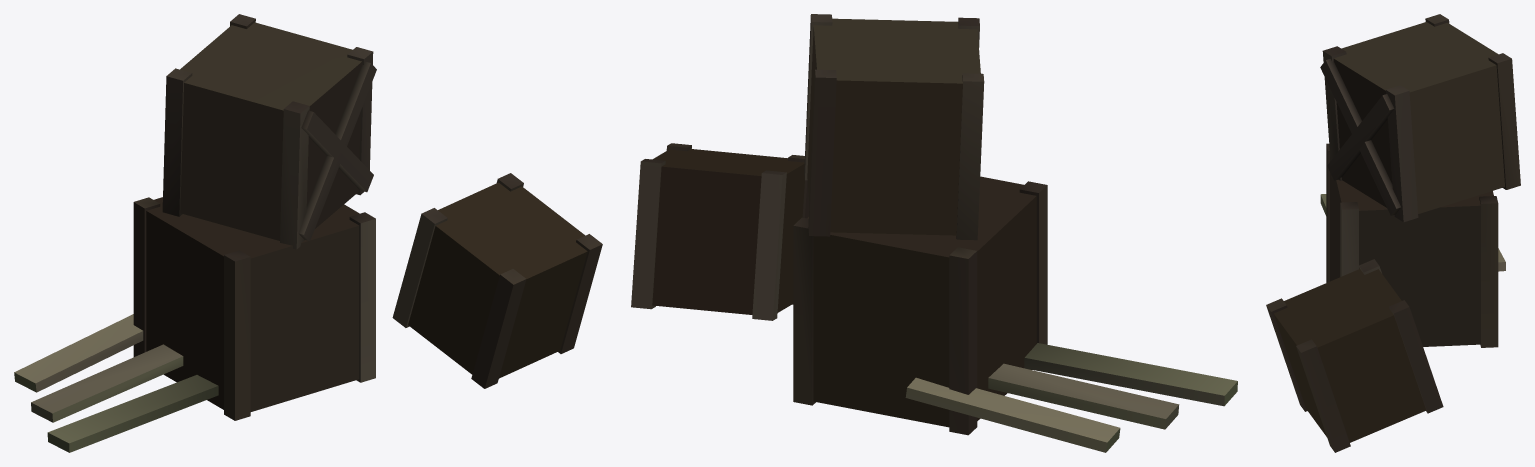
File: ShipwreckBay_Crates.fbx
3 views of the same model, side by side, from view 1: azimuth 30°, elevation 25°; view 2: azimuth 150°, elevation 25°; view 3: azimuth 270°, elevation 25° (orthographic). The views are drawn at different scales.
Parts seen in each view (by area): view 1: ShipwreckBay_Crates; view 2: ShipwreckBay_Crates; view 3: ShipwreckBay_Crates.
Boxes of the visible parts, x1,y1,x2,y2 form: ShipwreckBay_Crates: (14, 14, 602, 452); ShipwreckBay_Crates: (631, 14, 1237, 452); ShipwreckBay_Crates: (1266, 14, 1520, 452).
Bounding box in the file's own units: 2.88 × 1.67 × 1.33.
